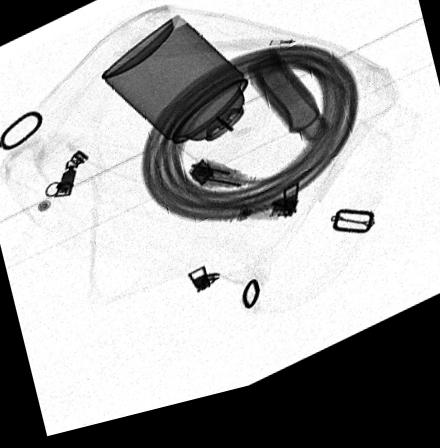Sprayer: (100, 21, 274, 180)
